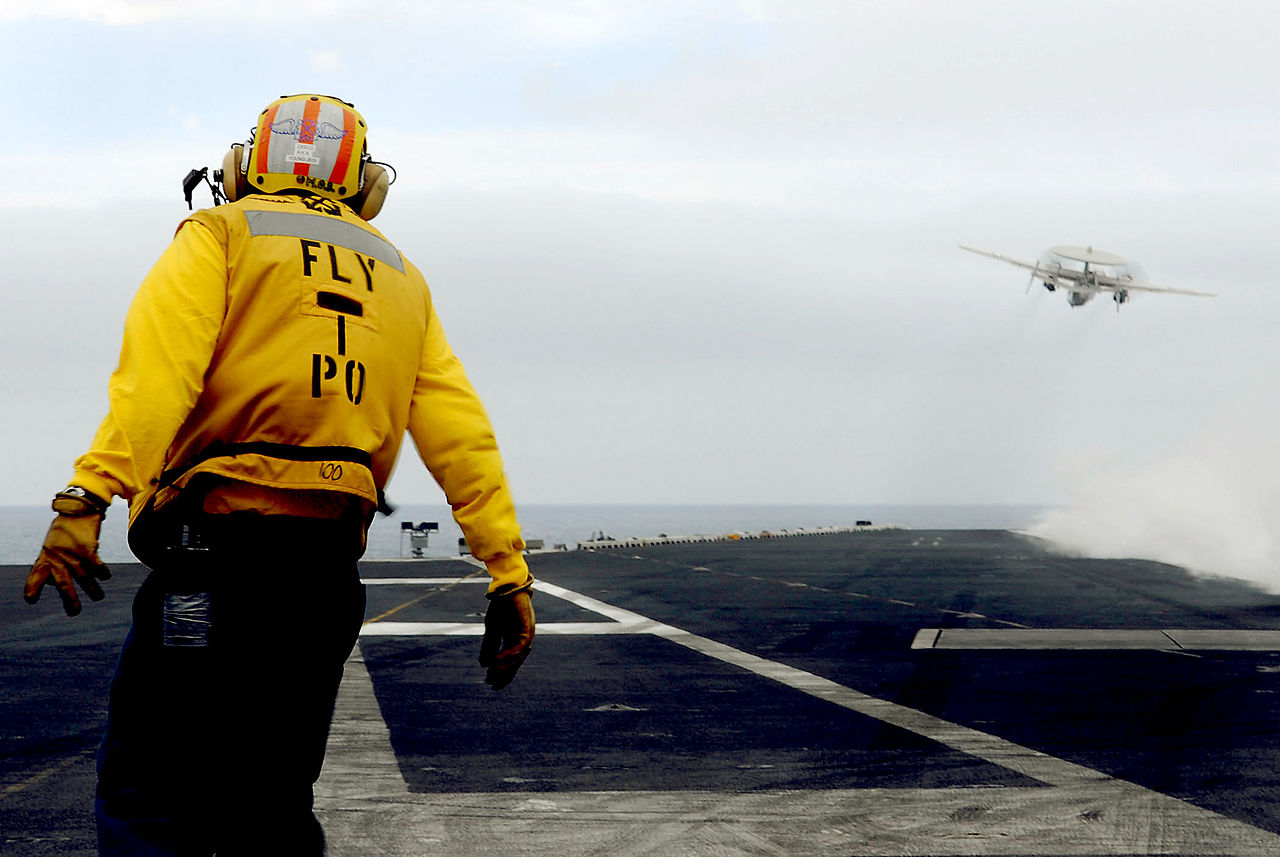E2: (956, 244, 1219, 314)
